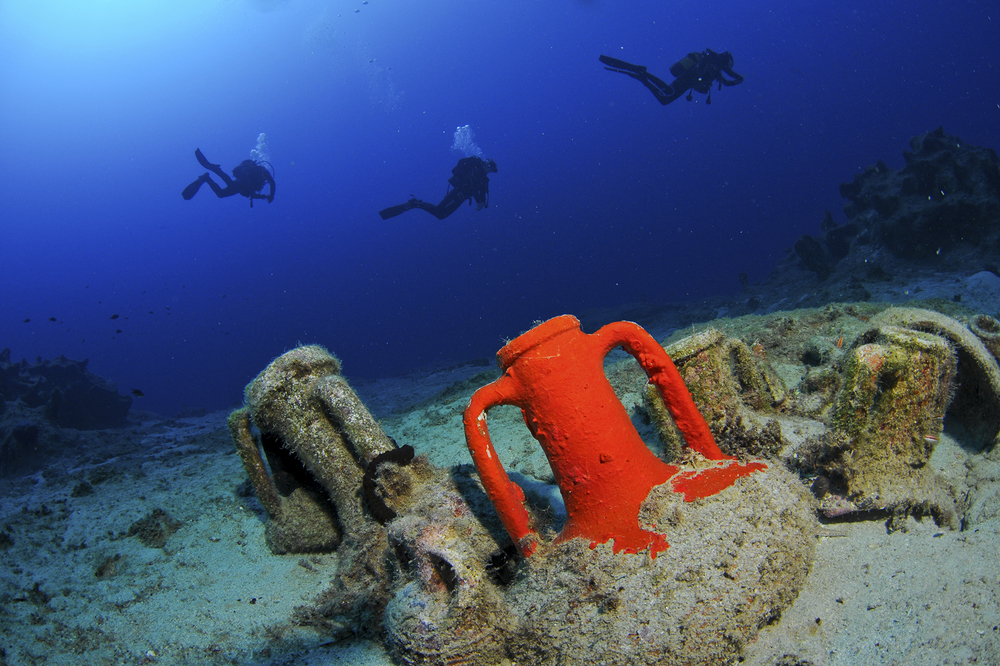amphora: (452, 310, 821, 666), (245, 340, 561, 629), (789, 326, 964, 537), (638, 331, 790, 486), (371, 516, 511, 666), (230, 376, 348, 549), (962, 308, 1000, 364)
